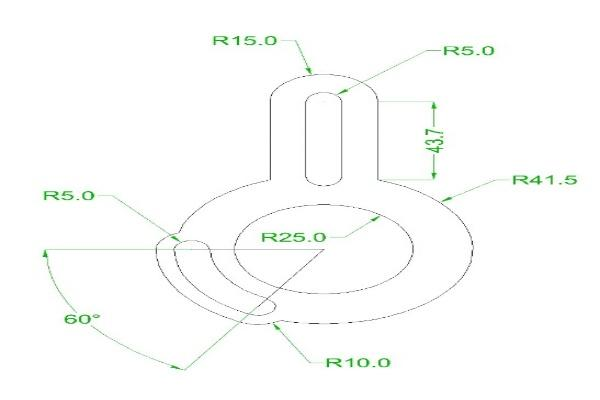dimensions: (322, 349, 397, 375), (203, 30, 286, 52), (439, 35, 494, 62), (34, 186, 100, 206), (510, 170, 580, 188), (260, 228, 328, 246), (419, 126, 448, 155)
